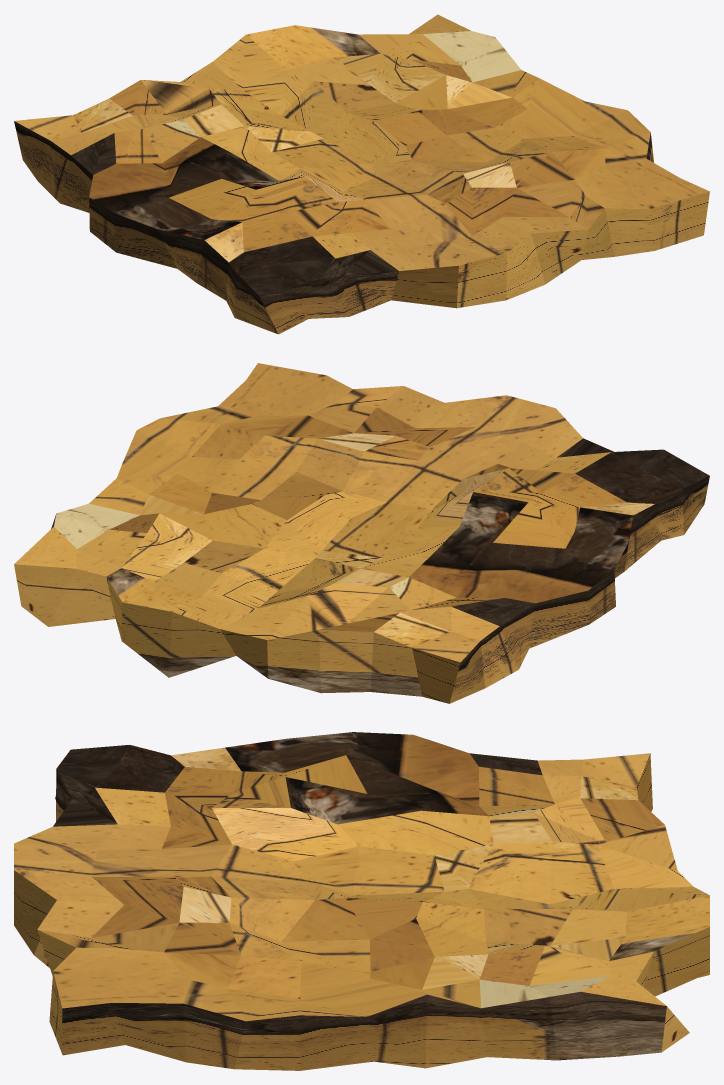
Rendered from wall chunk.fbx.
3 views of the same model, one above another, from view 1: azimuth 30°, elevation 25°; view 2: azimuth 150°, elevation 25°; view 3: azimuth 270°, elevation 25° (orthographic). The views are drawn at different scales.
Parts seen in each view (by area): view 1: Cube.552; view 2: Cube.552; view 3: Cube.552.
Part boxes in pixels (x1,y1,x2,y2): Cube.552: (14,14,709,334); Cube.552: (14,363,709,703); Cube.552: (14,732,709,1070).
Bounding box in the file's own units: 241 × 42.74 × 250.
